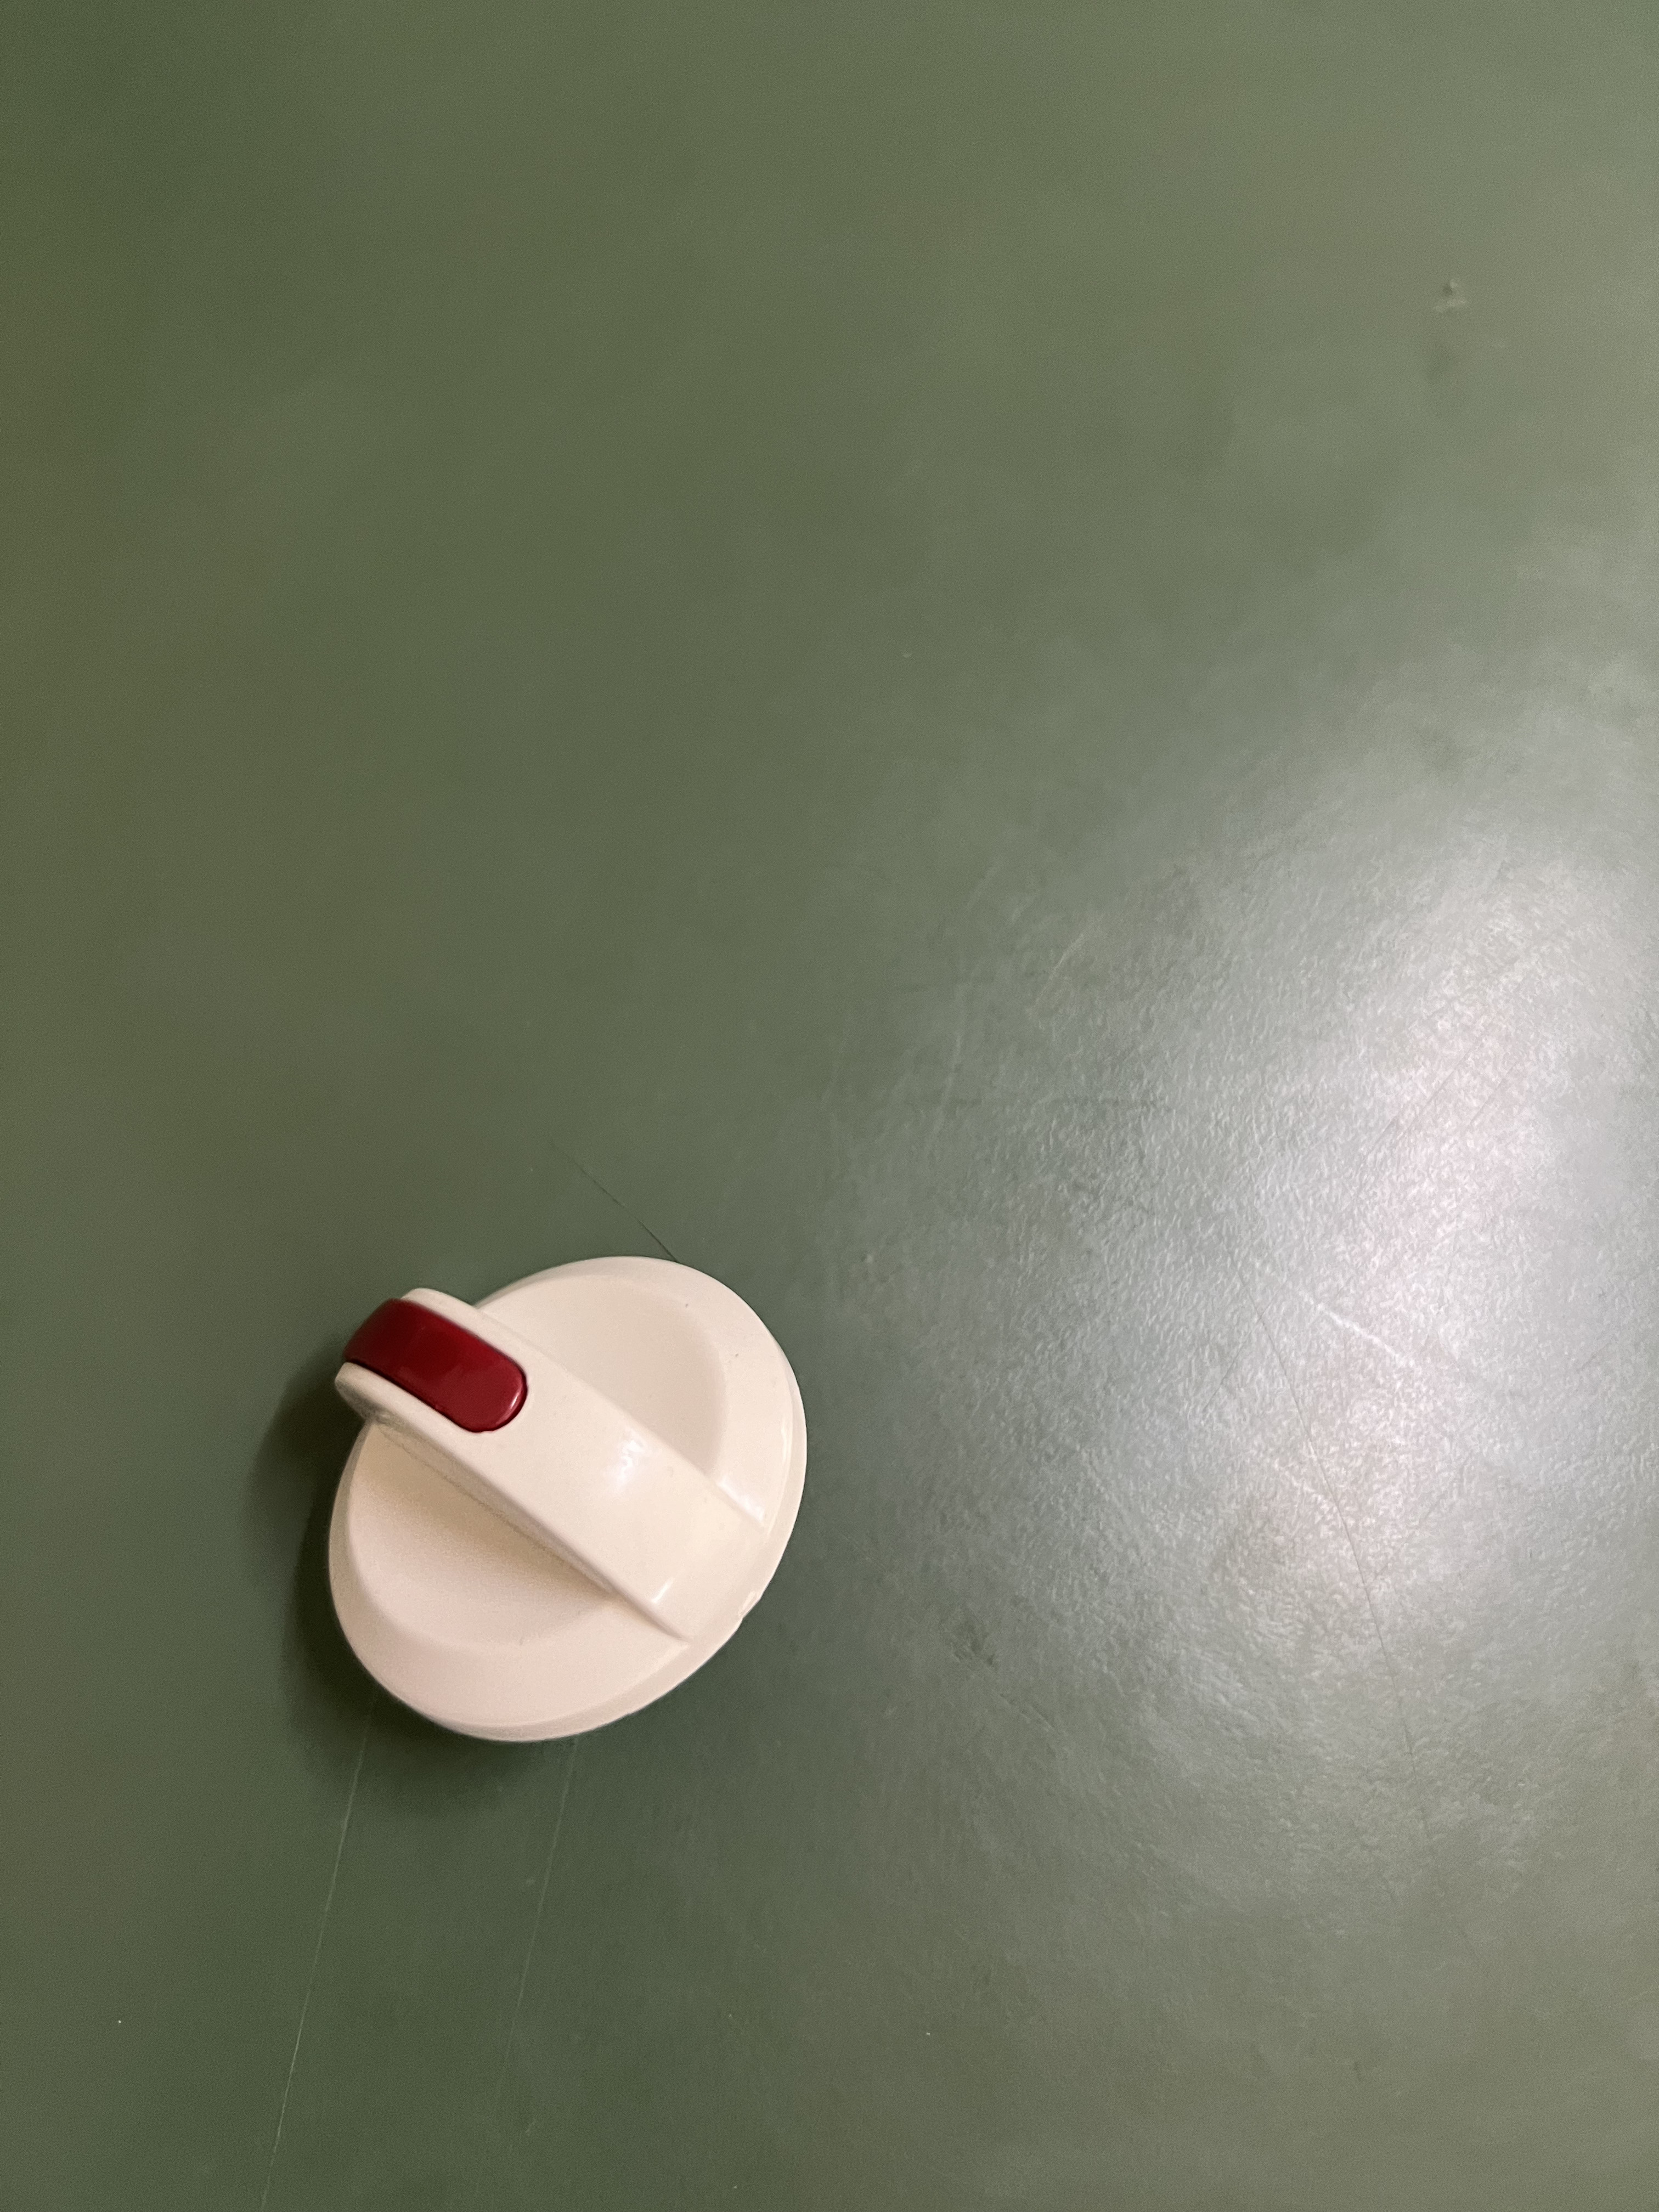regulator: (310, 1244, 836, 1768)
